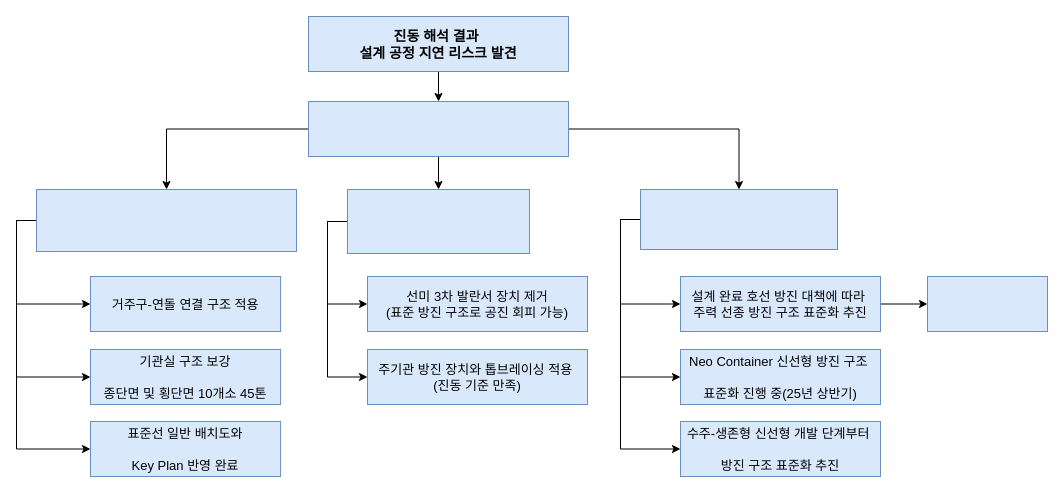
Some shapes in this 1064 by 493 pixel diagram are drawn without their labels. Here are the shapes that lost their labels. From the top down, the centre of each, then its label:
the point at 438,128: 표준 방진 구조 정립 필요 결정
the point at 166,220: Neo LNG 방진 구조 표준화 기본설계와 조선설계 공동 작업
the point at 438,221: 방진 장치 최적화
the point at 739,219: 주력 선종 방진 구조 표준화 설계와 건조 생산성 향상
the point at 987,304: 차기 프로젝트 설계 신속 반영
